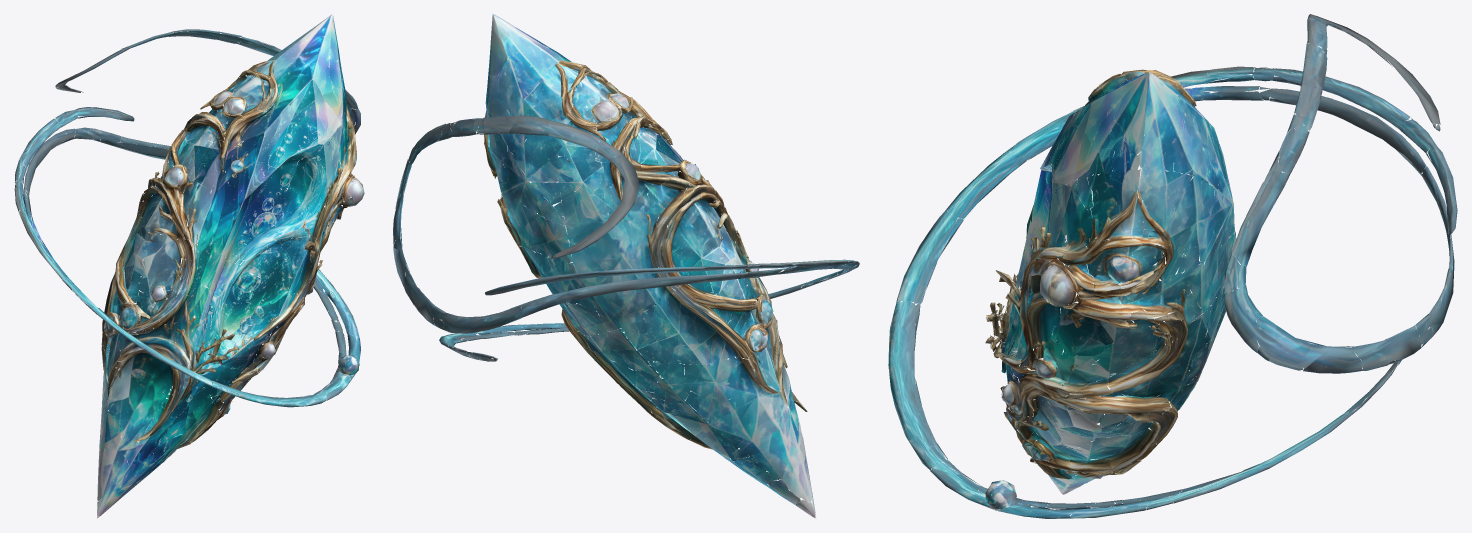
The model's file is ocean_crystal.glb.
The picture shows the model from 3 angles, left to right: view 1: azimuth 30°, elevation 25°; view 2: azimuth 150°, elevation 25°; view 3: azimuth 270°, elevation 25°; orthographic projection. The views are drawn at different scales.
Visible parts, largest first — view 1: Ocean_Crystal_Relic; view 2: Ocean_Crystal_Relic; view 3: Ocean_Crystal_Relic.
Boxes of the visible parts, bbox=[...] form: Ocean_Crystal_Relic: bbox=[14, 14, 364, 518]; Ocean_Crystal_Relic: bbox=[393, 14, 859, 518]; Ocean_Crystal_Relic: bbox=[888, 14, 1457, 518].
Size of the model in its own units: 1.21 by 1.35 by 1.14.
1 material, 1 textured.
